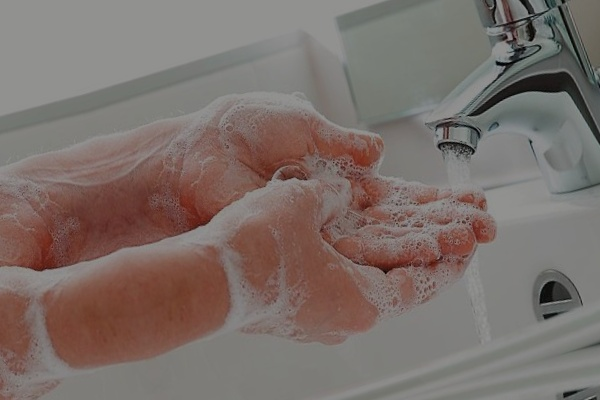washing hand: (129, 0, 599, 399)
